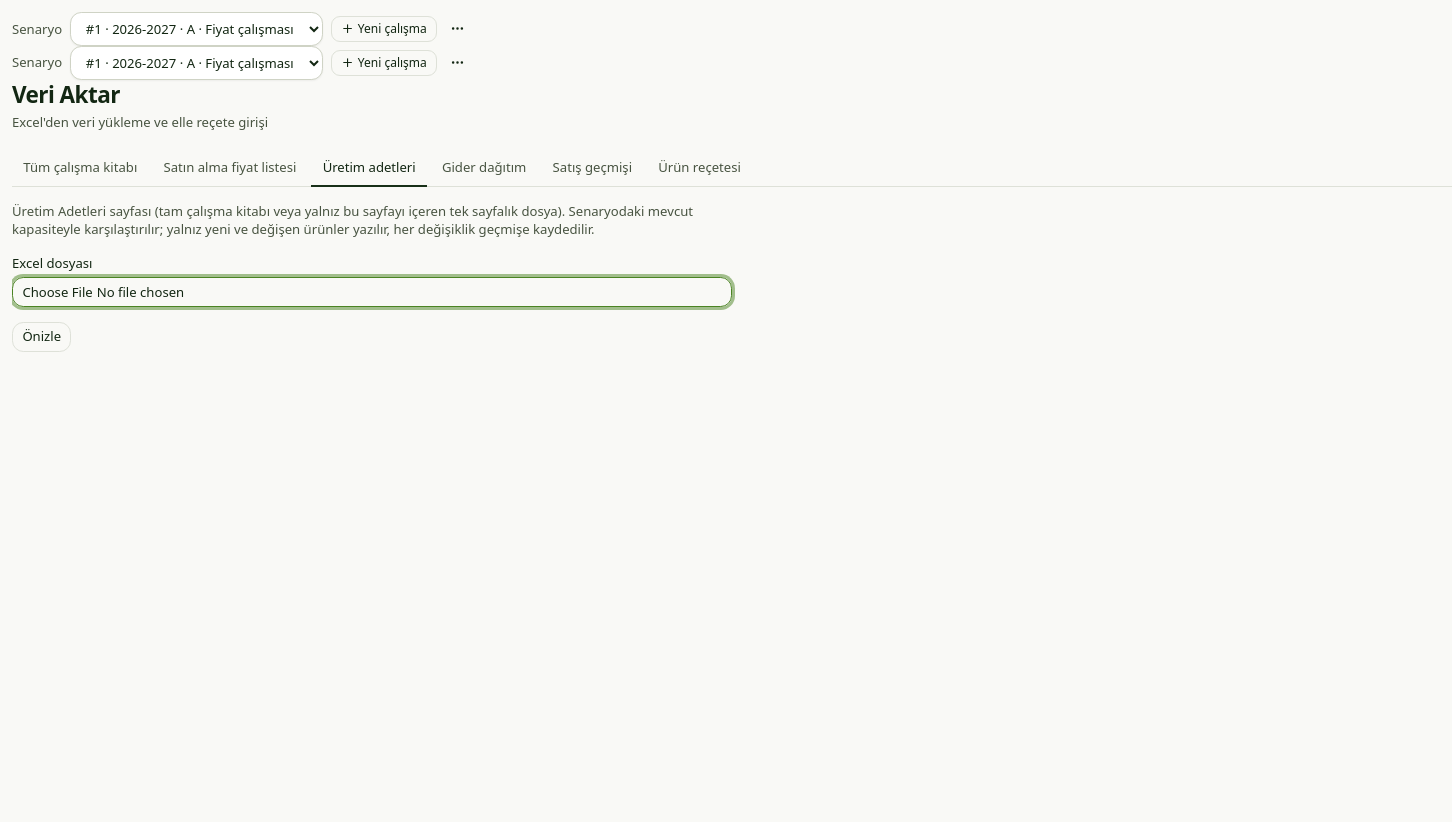
Veri Aktar - senaryo değişimi › önizlemeden sonra senaryo değişirse önizleme silinir ve Uygula görünmez
Earlier steps of the test are not shown.
Click the button "Önizle": click(42, 336) [12,322,71,352]
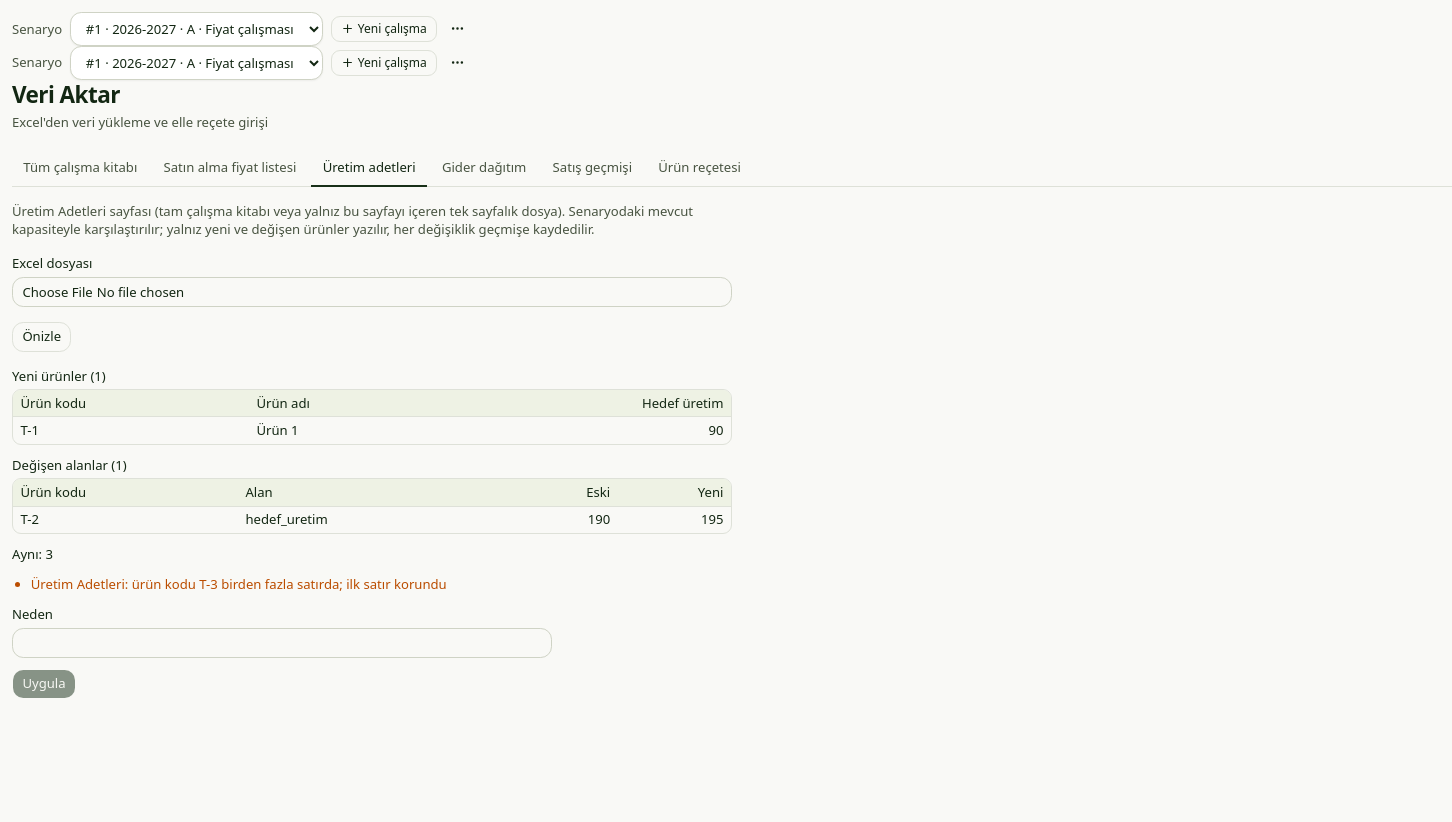
In the field labelled "Neden": (282, 642) [12,628,552,658], type "x"
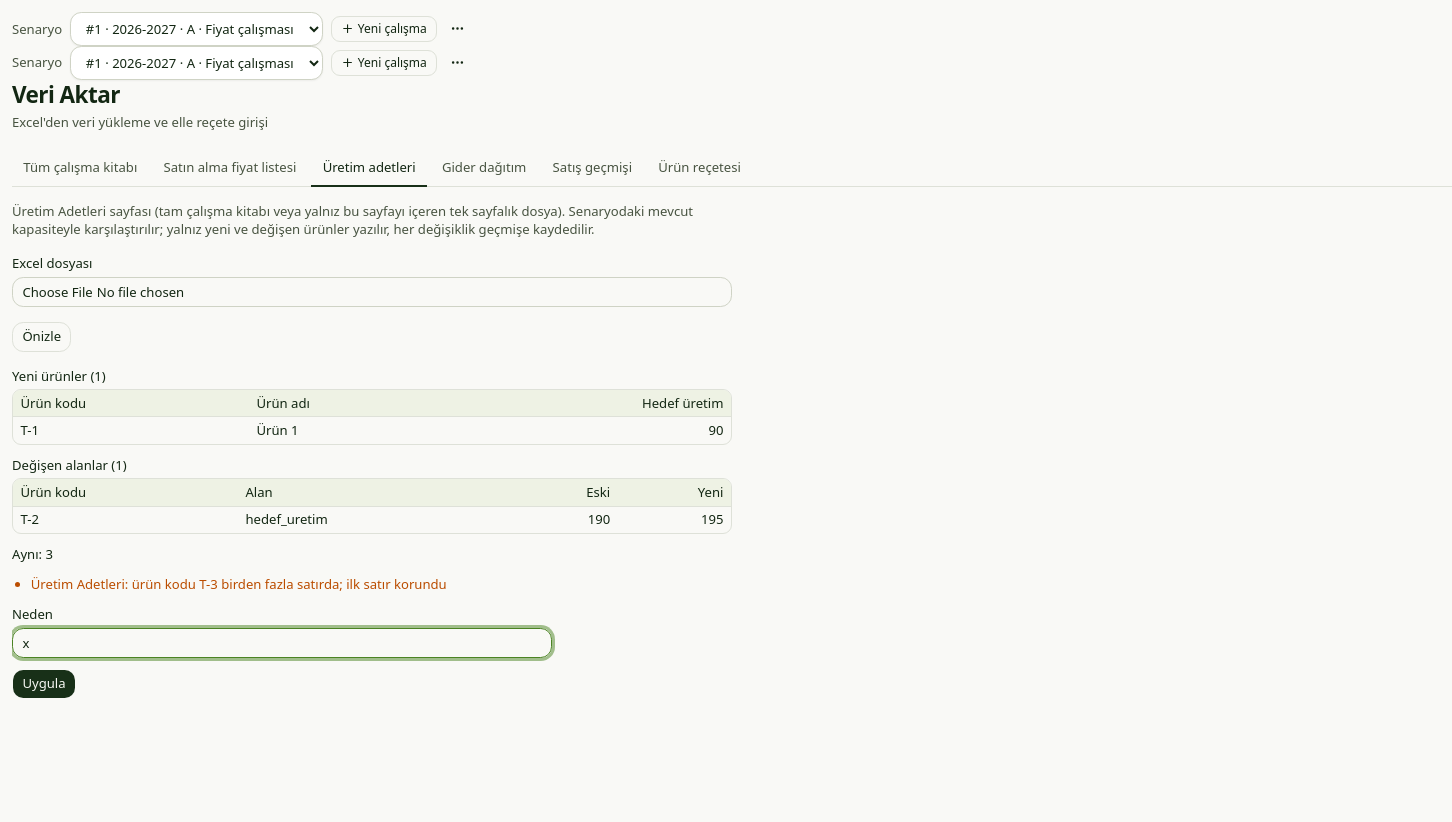
Expected: the button "Uygula" is enabled, [12,669,76,699]
Select "#2 · 2026-2027 · B · Fiyat çalışması" in the dropdown labelled "Senaryo": (196, 29) [70,12,323,46]
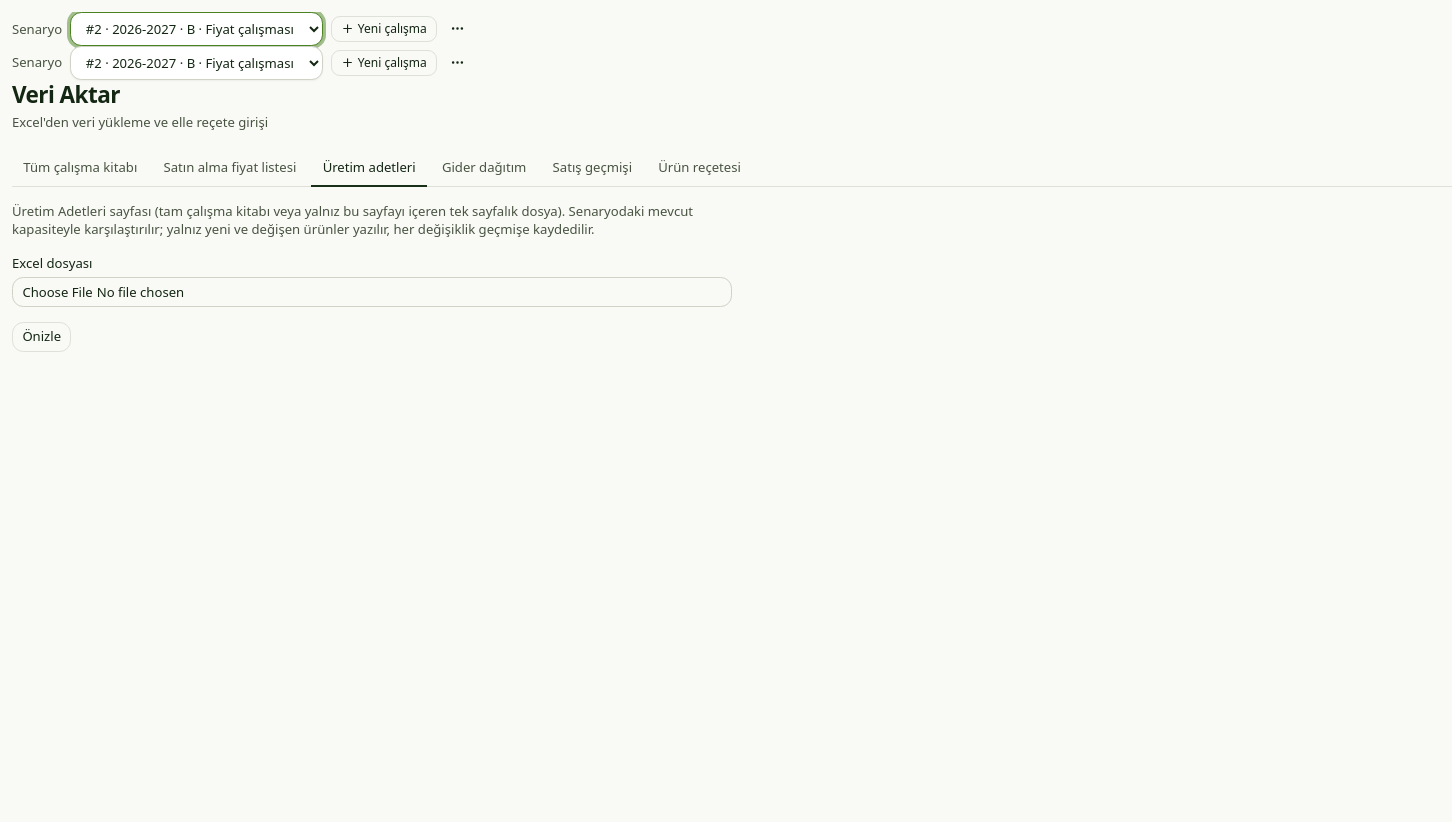
Expected: the button "Önizle" is enabled, [12,322,71,352]
Expected: the element "Önizleme" is gone
Expected: the button "Uygula" is gone
